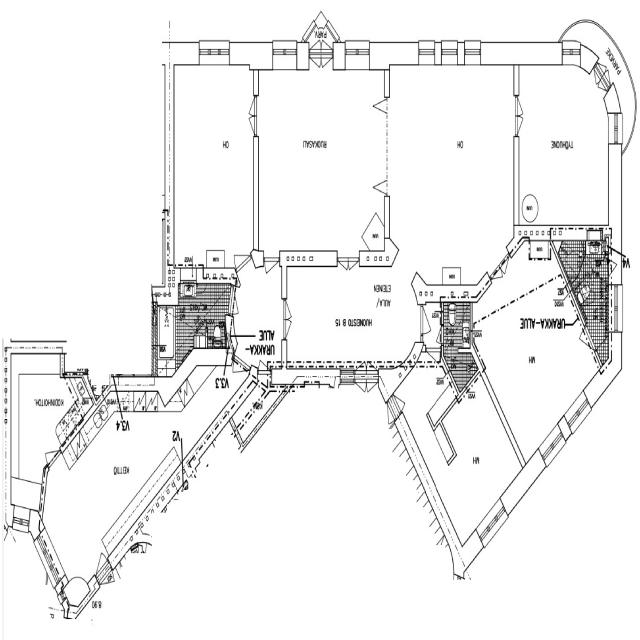door: (572, 326, 596, 365), (229, 232, 252, 272), (39, 429, 61, 469), (99, 567, 120, 604), (228, 286, 251, 319), (88, 542, 109, 578), (228, 354, 246, 388), (378, 401, 397, 432), (392, 382, 410, 413), (490, 264, 507, 294), (499, 253, 515, 283), (421, 306, 438, 334), (259, 347, 271, 384), (264, 258, 279, 286), (593, 78, 608, 102), (602, 63, 617, 87), (587, 66, 601, 91), (427, 348, 440, 374), (596, 52, 610, 76), (366, 349, 378, 374), (515, 116, 529, 136), (355, 349, 366, 374), (283, 300, 297, 319), (283, 319, 297, 338), (355, 379, 366, 403), (366, 379, 377, 403), (515, 98, 529, 116), (310, 54, 321, 76), (321, 54, 332, 76), (431, 326, 444, 344), (310, 31, 321, 52), (244, 96, 256, 115), (244, 116, 256, 134), (338, 257, 348, 278), (348, 257, 358, 278), (321, 31, 331, 52)
